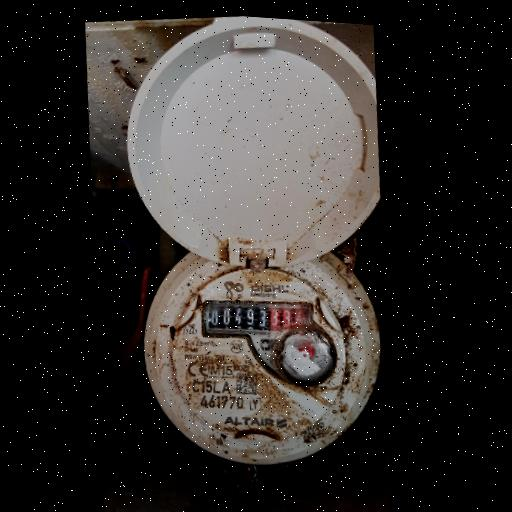0: (208, 305, 223, 329), (221, 306, 234, 329)
3: (280, 307, 294, 332), (269, 306, 282, 331), (257, 308, 269, 331)
4: (232, 306, 245, 330), (293, 306, 306, 327)
9: (245, 307, 257, 330)
border_water_meter_number: (201, 292, 315, 347)
